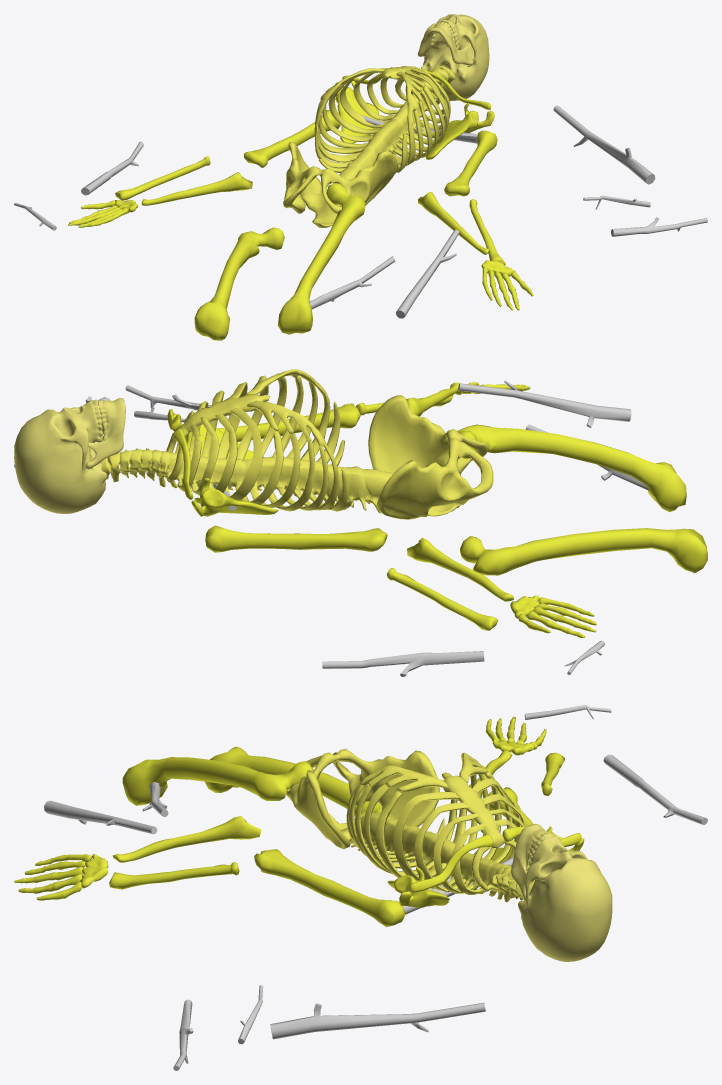
File: calavera02.gltf
3 renders of one model, top to bottom at view 1: azimuth 30°, elevation 25°; view 2: azimuth 150°, elevation 25°; view 3: azimuth 270°, elevation 25°, orthographic. The views are drawn at different scales.
Visible parts, largest first — view 1: Object_3; view 2: Object_3; view 3: Object_3.
Boxes of the visible parts, x1,y1,x2,y2 form: Object_3: (14,14,707,340); Object_3: (14,369,707,676); Object_3: (14,705,707,1070).
Bounding box in the file's own units: 5.83 × 1.54 × 5.16.
